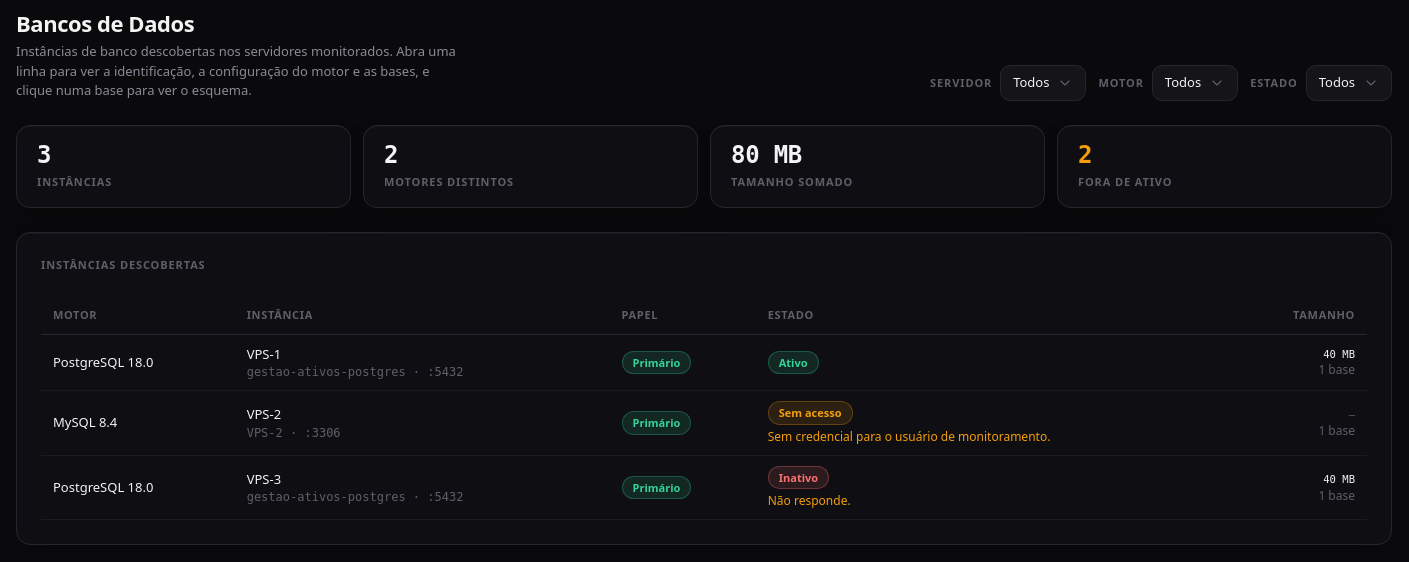
Test: BancosView — filtros › o filtro de estado reduz a lista
The width and height of the screenshot is (1409, 562).
Click the dropdown named "Estado" at (1349, 83), box [1306,65,1392,101]
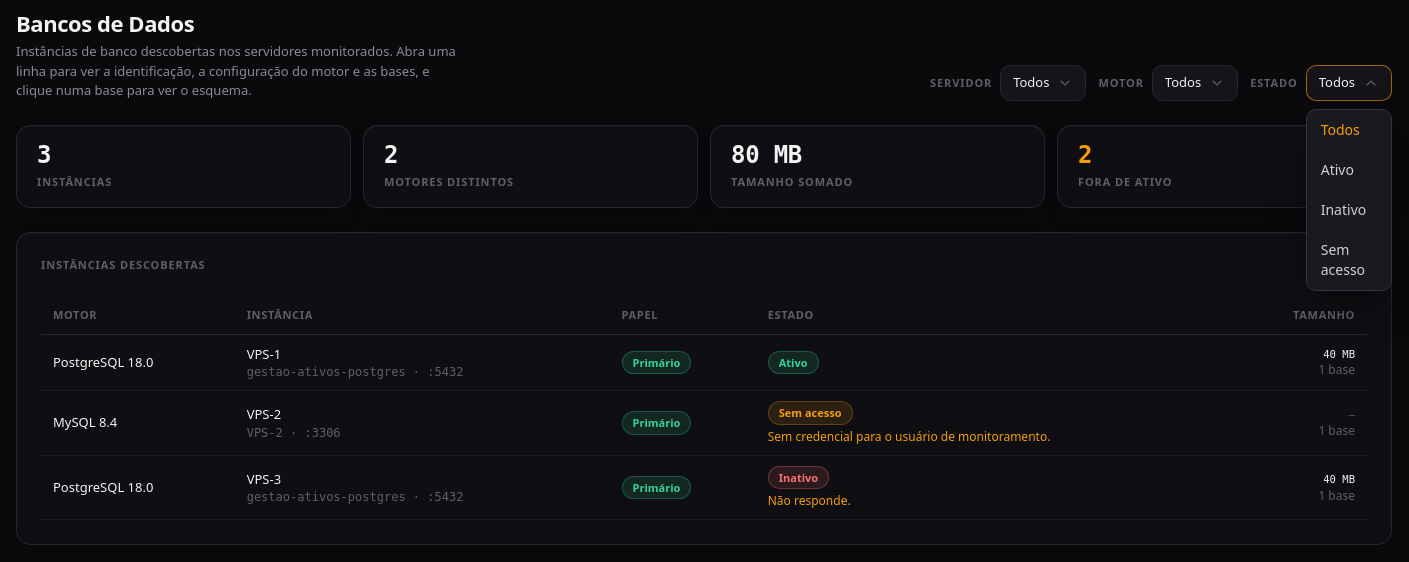
Click the option "Ativo" at (1337, 169), box [1321,160,1354,179]
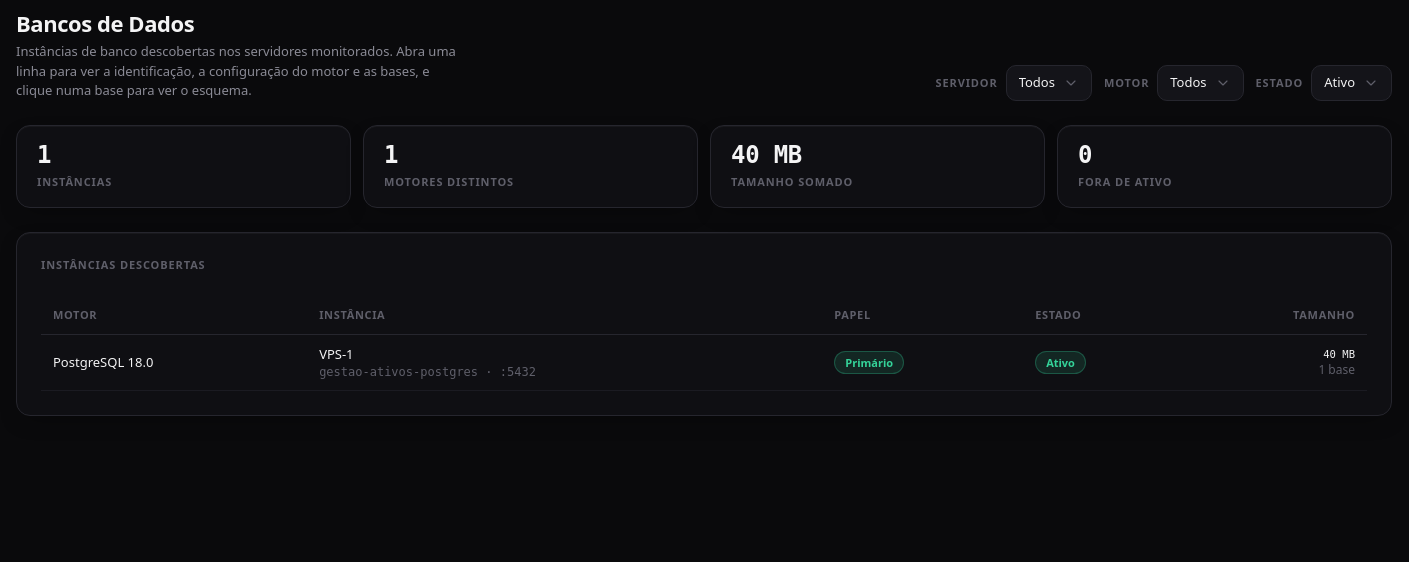
expect the number of buttons with test id "instancia" is 1: met, box [41,334,1367,391]
expect the text with test id "resumo-fora-de-ativo" reads "0": met, box [1078,141,1092,169]
